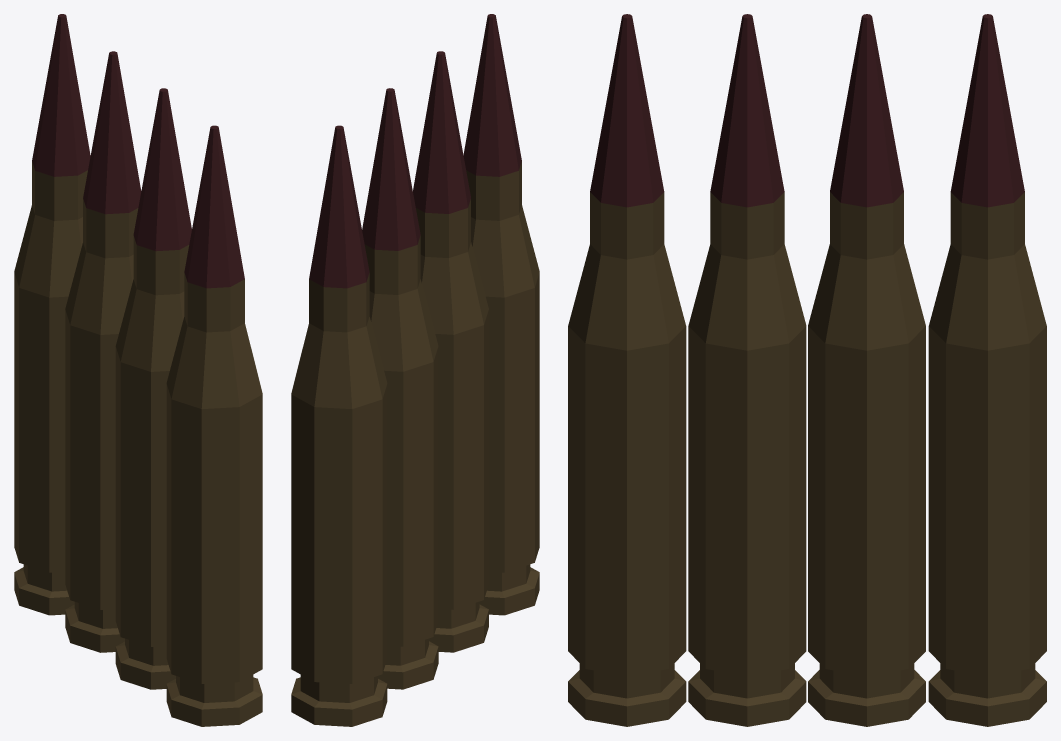
Rendered from Sniper_Ammo.fbx.
3 renders of one model, left to right at view 1: azimuth 30°, elevation 25°; view 2: azimuth 150°, elevation 25°; view 3: azimuth 270°, elevation 25°, orthographic. The views are drawn at different scales.
Parts seen in each view (by area): view 1: Sniper Ammo; view 2: Sniper Ammo; view 3: Sniper Ammo.
Part boxes in pixels (box(x1,y1,x2,y2)): Sniper Ammo: box(14, 14, 262, 726); Sniper Ammo: box(291, 14, 539, 726); Sniper Ammo: box(568, 14, 1046, 726).
Size of the model in its own units: 74.46 by 477 by 302.
